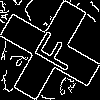F: (25, 25, 80, 75)
